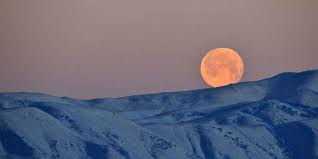moon: (201, 45, 244, 87)
